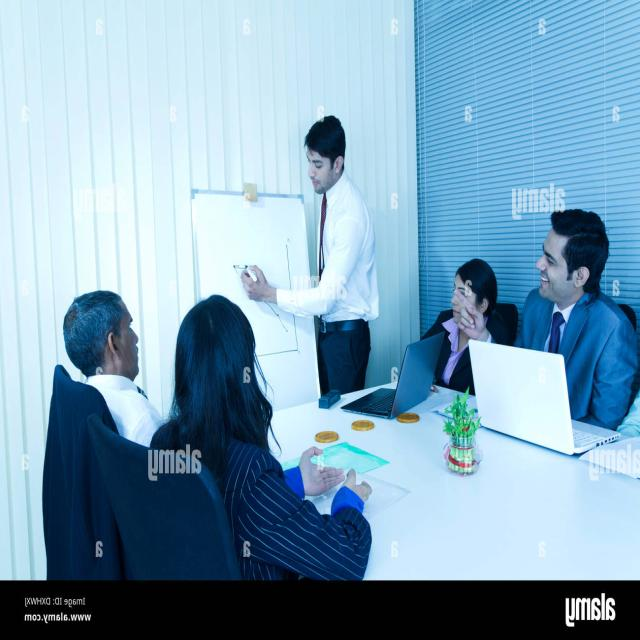adult: (156, 297, 372, 615), (242, 114, 379, 395), (515, 210, 636, 427), (59, 288, 157, 458), (408, 257, 516, 387)
